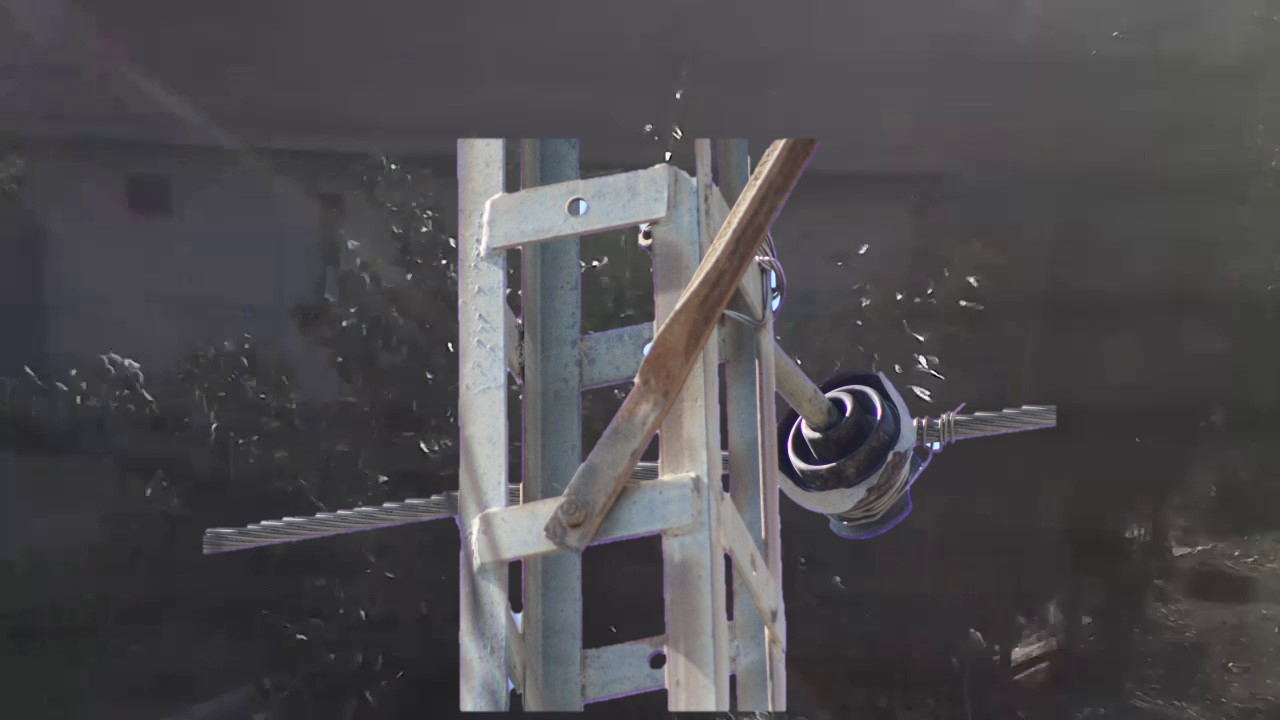defect_pin: (777, 368, 938, 549)
